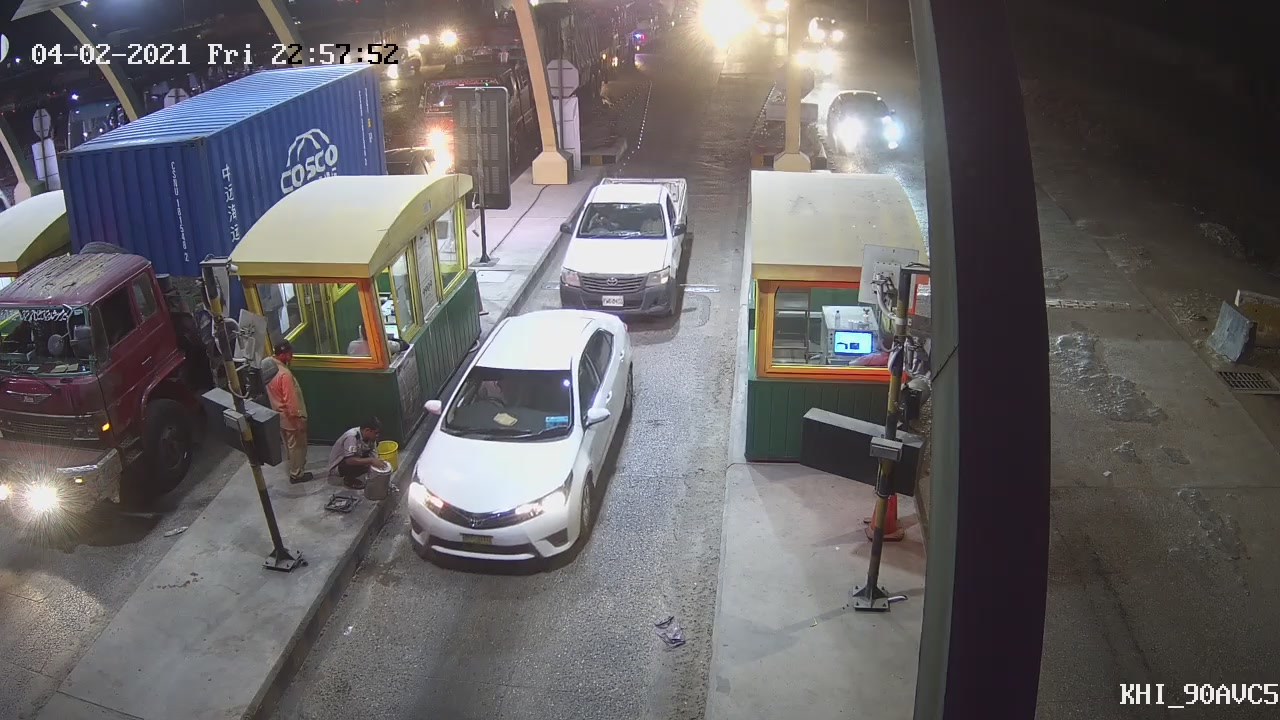F1: (407, 307, 640, 569), (546, 153, 705, 326)
